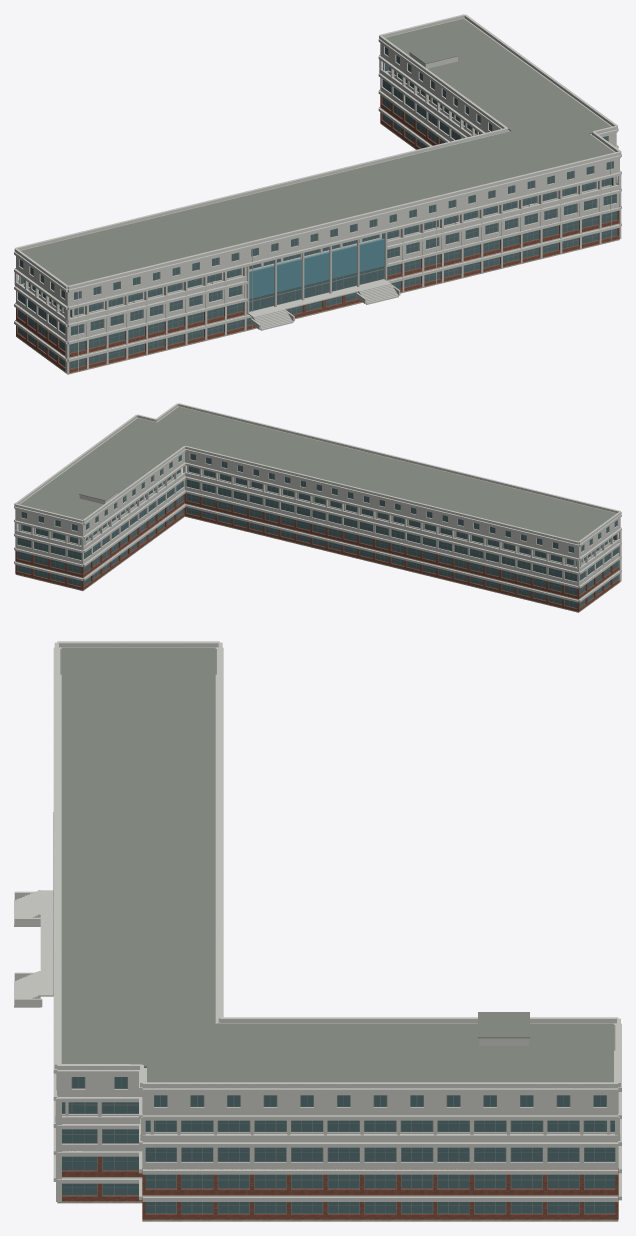
3 views of the same model, one above another, from view 1: azimuth 30°, elevation 25°; view 2: azimuth 150°, elevation 25°; view 3: azimuth 270°, elevation 25° (orthographic). The views are drawn at different scales.
Visible parts, largest first — view 1: woncheon__white, woncheon__roof, woncheon__glass, woncheon__frame, woncheon__brick, woncheon__panel, woncheon__stone, woncheon__threshold-main, woncheon__stair-main-east, woncheon__stair-main-west; view 2: woncheon__white, woncheon__roof, woncheon__glass, woncheon__brick, woncheon__frame, woncheon__stone; view 3: woncheon__roof, woncheon__white, woncheon__glass, woncheon__brick, woncheon__frame, woncheon__stone, woncheon__threshold-main.
Boxes of the visible parts, left/top/right/bottom form: woncheon__white: left=14, top=14, right=621, bottom=373; woncheon__roof: left=20, top=18, right=614, bottom=285; woncheon__glass: left=18, top=47, right=617, bottom=368; woncheon__frame: left=18, top=53, right=617, bottom=369; woncheon__brick: left=16, top=91, right=619, bottom=372; woncheon__panel: left=249, top=238, right=384, bottom=298; woncheon__stone: left=16, top=123, right=619, bottom=374; woncheon__threshold-main: left=248, top=279, right=389, bottom=316; woncheon__stair-main-east: left=358, top=283, right=398, bottom=304; woncheon__stair-main-west: left=252, top=309, right=293, bottom=330; woncheon__white: left=14, top=403, right=621, bottom=602; woncheon__roof: left=20, top=406, right=616, bottom=541; woncheon__glass: left=17, top=454, right=618, bottom=607; woncheon__brick: left=15, top=493, right=619, bottom=611; woncheon__frame: left=17, top=454, right=618, bottom=608; woncheon__stone: left=15, top=516, right=619, bottom=612; woncheon__roof: left=61, top=647, right=613, bottom=1082; woncheon__white: left=14, top=641, right=621, bottom=1201; woncheon__glass: left=62, top=1077, right=615, bottom=1213; woncheon__brick: left=62, top=1151, right=618, bottom=1219; woncheon__frame: left=62, top=1077, right=615, bottom=1213; woncheon__stone: left=57, top=1201, right=618, bottom=1221; woncheon__threshold-main: left=40, top=890, right=53, bottom=996.
Bounding box in the file's own units: 126 × 19.27 × 73.14.
Materials: 8 (4 with a texture image).
